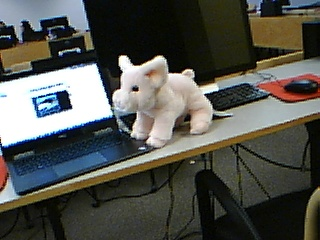piggy: (109, 51, 218, 150)
